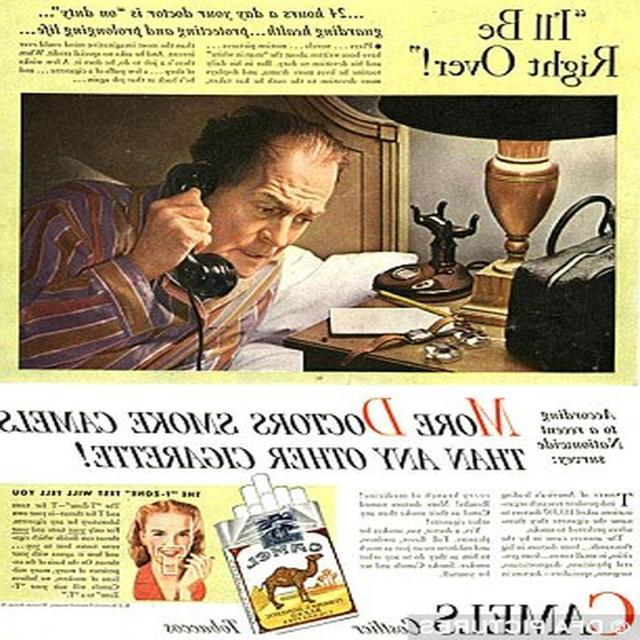smoking: (126, 500, 226, 584)
